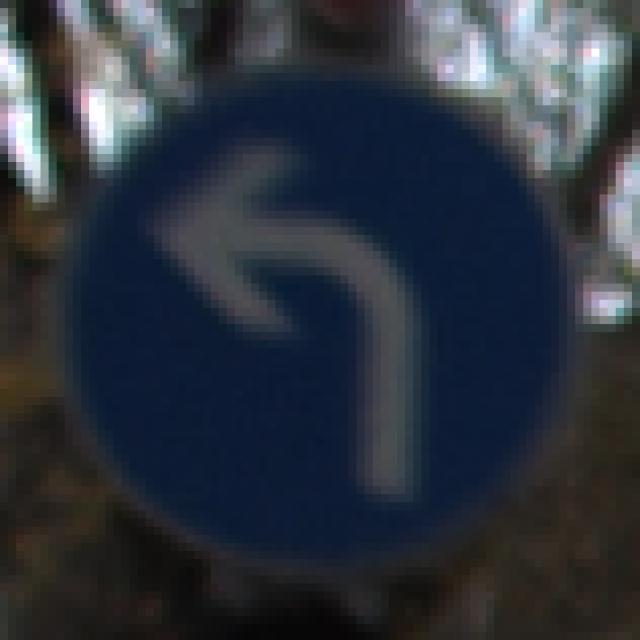compulsary turn left ahead: (44, 77, 571, 564)
